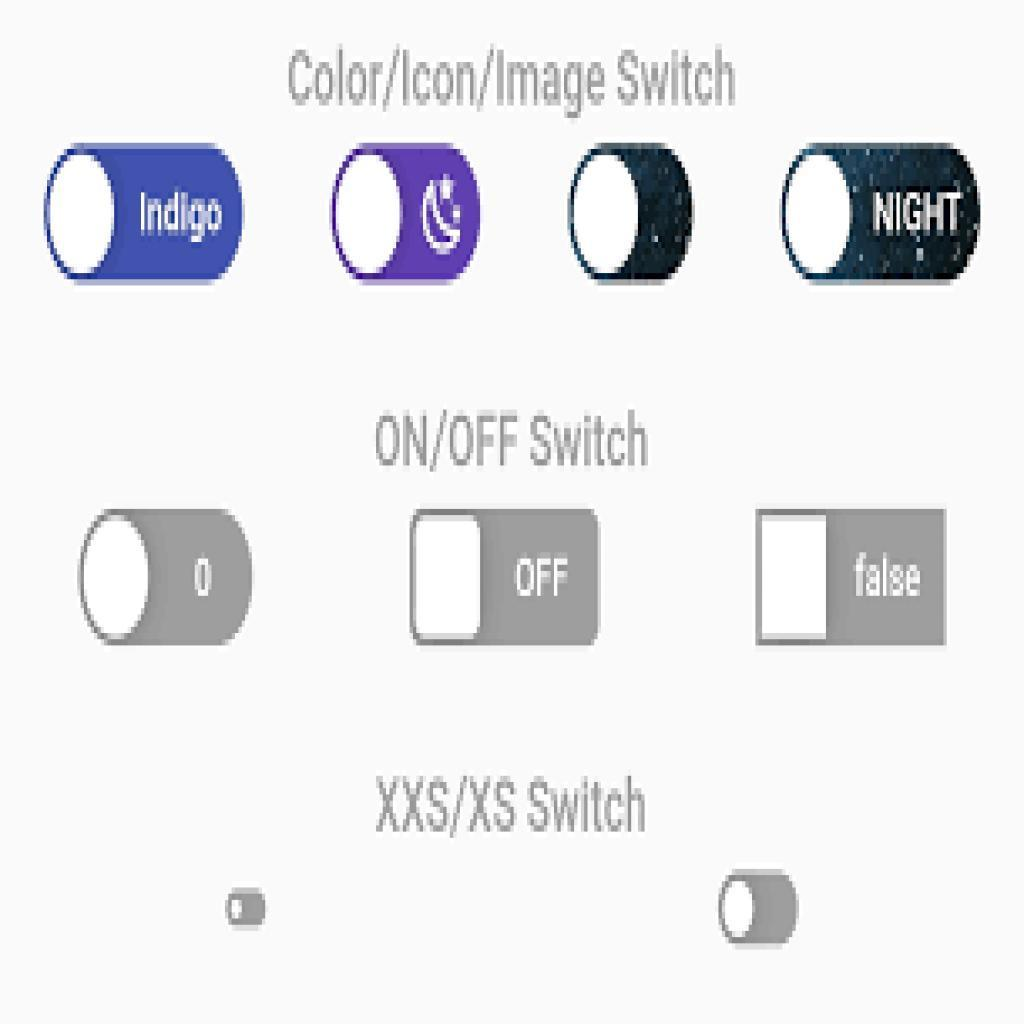switch: (47, 145, 243, 288), (755, 509, 947, 647), (410, 509, 601, 647), (79, 509, 255, 647), (332, 142, 482, 288), (567, 144, 696, 287), (720, 872, 800, 951), (225, 887, 268, 930)
